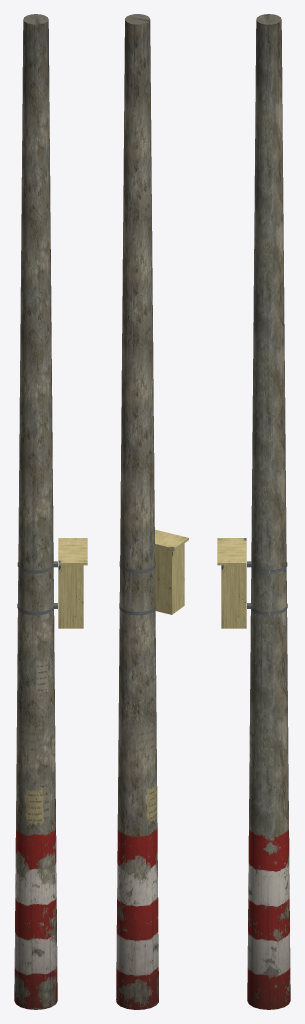
Rendered from SM_PowerPole.fbx.
The picture shows the model from 3 angles, left to right: view 1: azimuth 90°, elevation 25°; view 2: azimuth 150°, elevation 25°; view 3: azimuth 270°, elevation 25°; orthographic projection.
Visible parts, largest first — view 1: SM_PowerPole_LOD0; view 2: SM_PowerPole_LOD0; view 3: SM_PowerPole_LOD0.
Boxes of the visible parts, <box> form: SM_PowerPole_LOD0: <box>14,14,87,1009</box>; SM_PowerPole_LOD0: <box>116,14,188,1009</box>; SM_PowerPole_LOD0: <box>217,14,290,1009</box>.
Size of what is drawn, in the model's own units: 0.46 by 8.5 by 0.5754.
